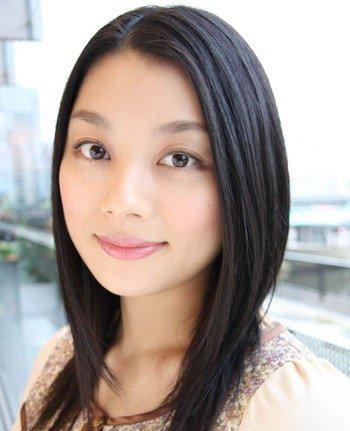Sober: (64, 77, 212, 277)
